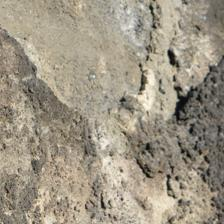Crack: (4, 31, 84, 120), (124, 5, 183, 100)
